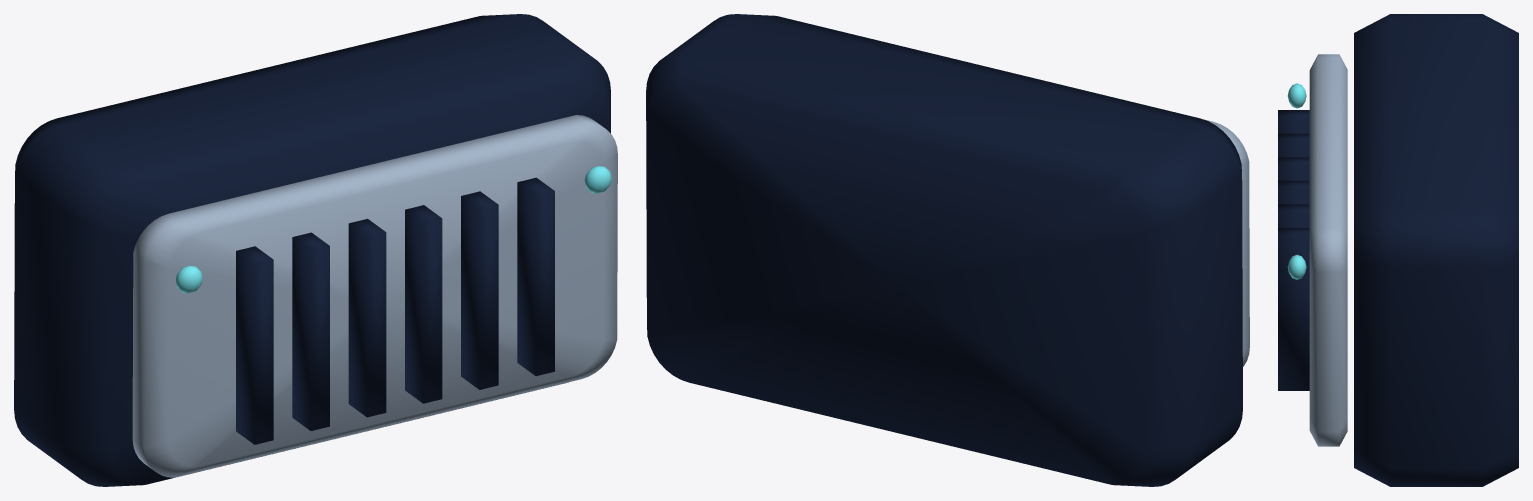
Rendered from nova_shoulder_module.glb.
3 renders of one model, left to right at view 1: azimuth 30°, elevation 25°; view 2: azimuth 150°, elevation 25°; view 3: azimuth 270°, elevation 25°, orthographic. The views are drawn at different scales.
Visible parts, largest first — view 1: nova_shoulder_module_dark, nova_shoulder_module_metal, nova_shoulder_module_gem; view 2: nova_shoulder_module_dark, nova_shoulder_module_metal; view 3: nova_shoulder_module_dark, nova_shoulder_module_metal, nova_shoulder_module_gem.
Boxes of the visible parts, x1,y1,x2,y2 form: nova_shoulder_module_dark: (14,14,610,486); nova_shoulder_module_metal: (132,115,617,477); nova_shoulder_module_gem: (175,166,611,293); nova_shoulder_module_dark: (646,14,1242,486); nova_shoulder_module_metal: (1203,119,1249,366); nova_shoulder_module_dark: (1278,14,1518,486); nova_shoulder_module_metal: (1309,54,1347,446); nova_shoulder_module_gem: (1287,83,1306,279).
Size of the model in its own units: 0.085 by 0.048 by 0.038.
